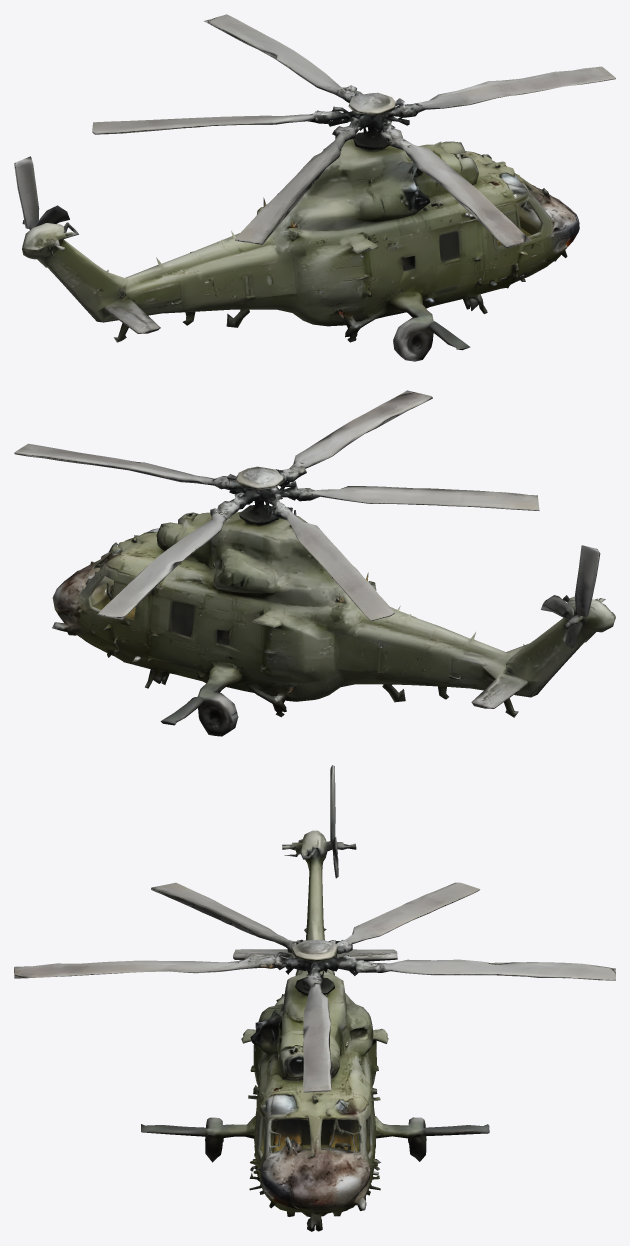
3 views of the same model, one above another, from view 1: azimuth 30°, elevation 25°; view 2: azimuth 150°, elevation 25°; view 3: azimuth 270°, elevation 25° (orthographic). The views are drawn at different scales.
Parts seen in each view (by area): view 1: tripo_node_9b7302b1-99ca-4621-bbca-bd91137fcfb4; view 2: tripo_node_9b7302b1-99ca-4621-bbca-bd91137fcfb4; view 3: tripo_node_9b7302b1-99ca-4621-bbca-bd91137fcfb4.
Part boxes in pixels (<box>): tripo_node_9b7302b1-99ca-4621-bbca-bd91137fcfb4: <box>14,14,615,361</box>; tripo_node_9b7302b1-99ca-4621-bbca-bd91137fcfb4: <box>14,390,615,736</box>; tripo_node_9b7302b1-99ca-4621-bbca-bd91137fcfb4: <box>14,765,615,1231</box>.
Bounding box in the file's own units: 1 × 0.3865 × 0.9011.
Materials: 1 (1 with a texture image).
